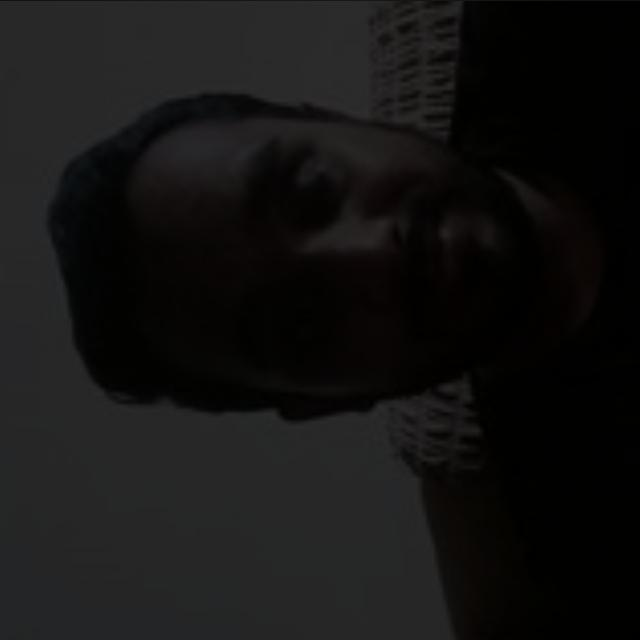Disgust: (63, 109, 558, 389)
